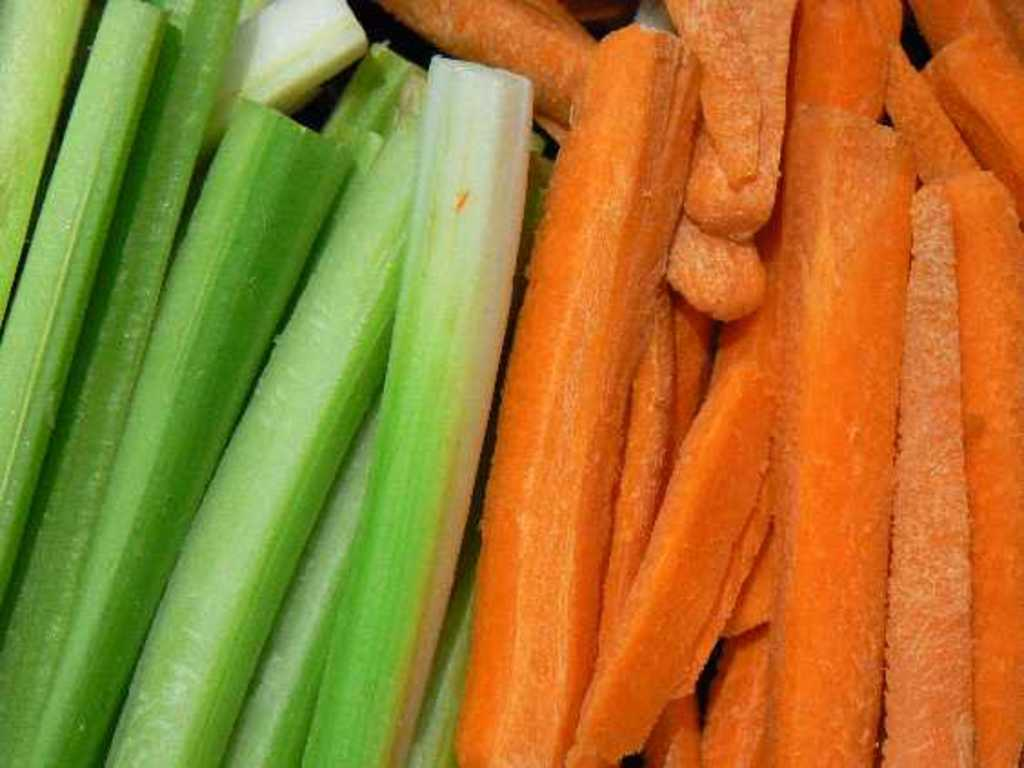Carrot: (376, 0, 1023, 768)
